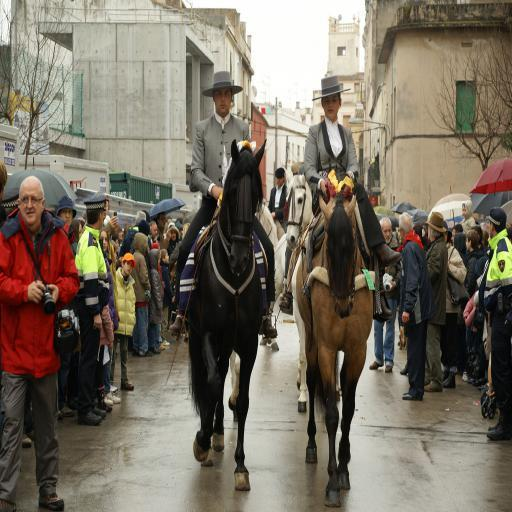horse: (186, 136, 267, 493), (295, 189, 373, 507), (268, 166, 315, 411), (255, 202, 285, 353)
